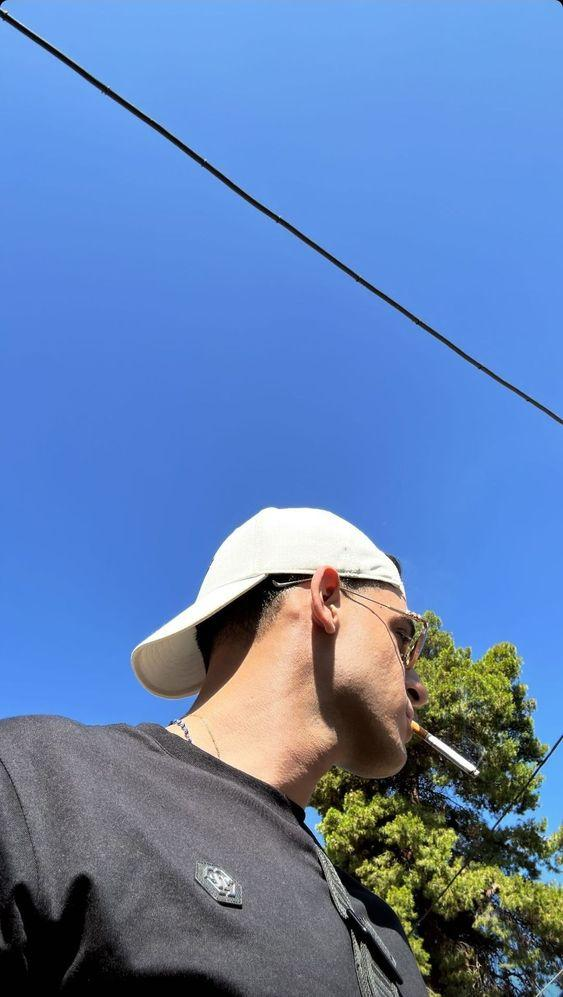cigarette: (410, 719, 477, 775)
